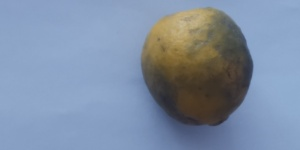BAD: (138, 7, 255, 127)
